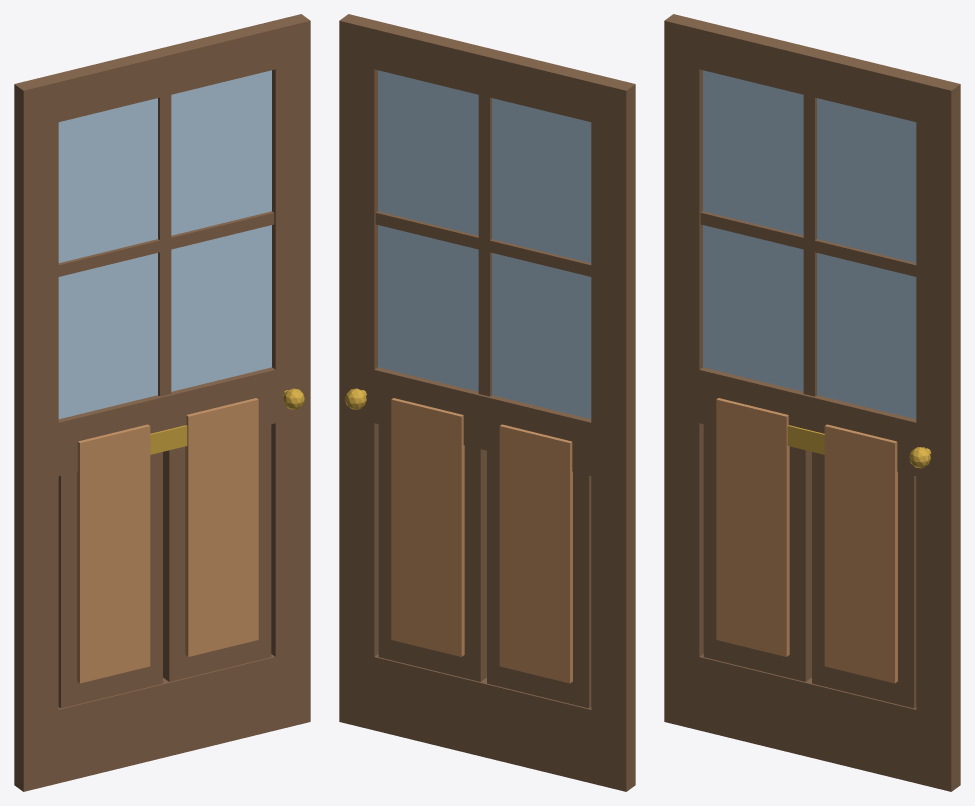
Rendered from door.glb.
3 renders of one model, left to right at view 1: azimuth 30°, elevation 25°; view 2: azimuth 150°, elevation 25°; view 3: azimuth 330°, elevation 25°, orthographic.
Parts seen in each view (by area): view 1: door; view 2: door; view 3: door.
Boxes of the visible parts, x1,y1,x2,y2 form: door: (14,14,310,791); door: (339,14,635,791); door: (664,14,960,791).
Bounding box in the file's own units: 0.9 × 2.1 × 0.19.
